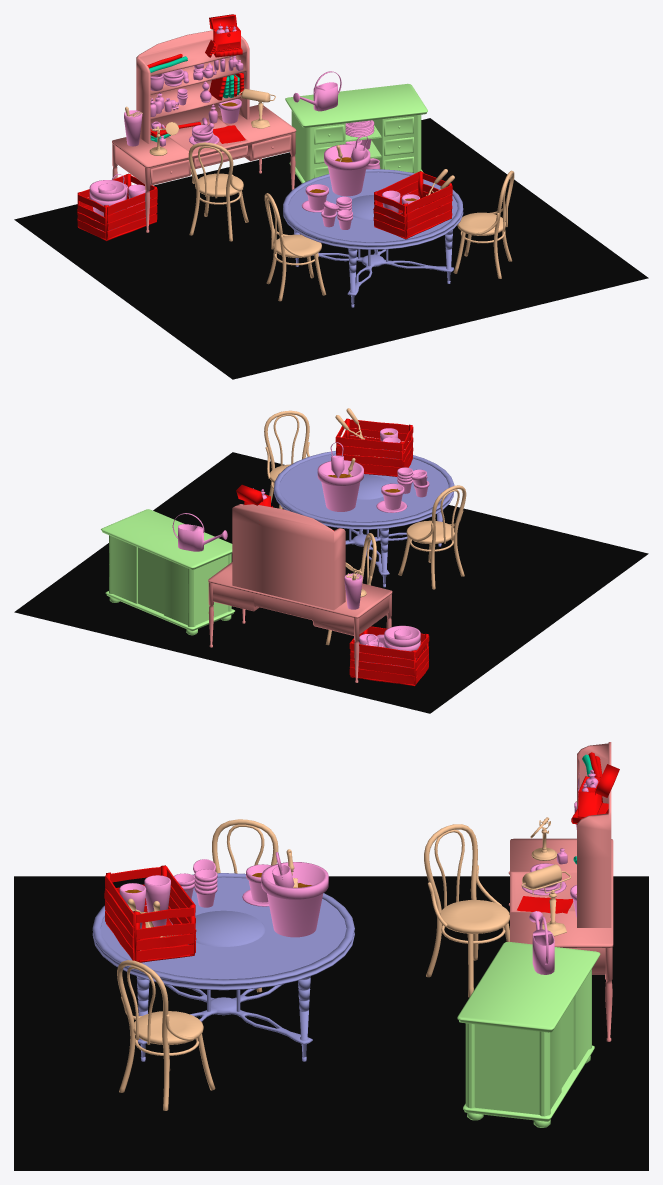
3 views of the same model, one above another, from view 1: azimuth 30°, elevation 25°; view 2: azimuth 150°, elevation 25°; view 3: azimuth 270°, elevation 25° (orthographic). The views are drawn at different scales.
Visible parts, largest first — view 1: Sol, Bureau_low001, Commode_low001, Table_low001, Caisse_low001, Caisse_low002, Chaise_low003, Chaise_low002, Chaise_low001, Pot4_low001, Boite_low001, Arrosoir_low001 (+3 smaller); view 2: Sol, Bureau_low001, Commode_low001, Table_low001, Caisse_low001, Caisse_low002, Chaise_low001, Pot4_low001, Chaise_low002, Arrosoir_low001, Chaise_low003, Pot2_low006 (+3 smaller); view 3: Sol, Commode_low001, Table_low001, Bureau_low001, Caisse_low001, Chaise_low003, Chaise_low002, Pot4_low001, Lampe_low001, Arrosoir_low001, Chaise_low001, Boite_low001 (+2 smaller).
Part boxes in pixels (x1,y1,x2,y2): Sol: [14, 118, 648, 379]; Bureau_low001: [112, 30, 296, 232]; Commode_low001: [285, 83, 427, 183]; Table_low001: [283, 169, 463, 307]; Caisse_low001: [373, 171, 452, 239]; Caisse_low002: [77, 173, 157, 241]; Chaise_low003: [188, 142, 248, 241]; Chaise_low002: [453, 170, 514, 278]; Chaise_low001: [264, 193, 326, 301]; Pot4_low001: [324, 144, 370, 196]; Boite_low001: [209, 14, 241, 51]; Arrosoir_low001: [293, 71, 341, 111]; Sol: [14, 452, 648, 713]; Bureau_low001: [208, 504, 392, 682]; Commode_low001: [101, 509, 234, 635]; Table_low001: [274, 451, 454, 587]; Caisse_low001: [335, 418, 413, 476]; Caisse_low002: [349, 626, 429, 686]; Chaise_low001: [398, 485, 466, 589]; Pot4_low001: [317, 460, 363, 511]; Chaise_low002: [264, 410, 309, 508]; Arrosoir_low001: [172, 513, 227, 551]; Chaise_low003: [326, 533, 376, 645]; Pot2_low006: [344, 573, 362, 609]; Sol: [14, 876, 648, 1170]; Commode_low001: [457, 942, 600, 1127]; Table_low001: [92, 873, 354, 1061]; Bureau_low001: [508, 742, 613, 1041]; Caisse_low001: [104, 865, 196, 962]; Chaise_low003: [424, 824, 509, 997]; Chaise_low002: [117, 960, 215, 1110]; Pot4_low001: [261, 862, 328, 937]; Lampe_low001: [521, 864, 570, 936]; Arrosoir_low001: [529, 911, 554, 974]; Chaise_low001: [212, 819, 278, 992]; Boite_low001: [577, 764, 619, 817].
Bounding box in the file's own units: 5.76 × 5.25 × 2.22.
